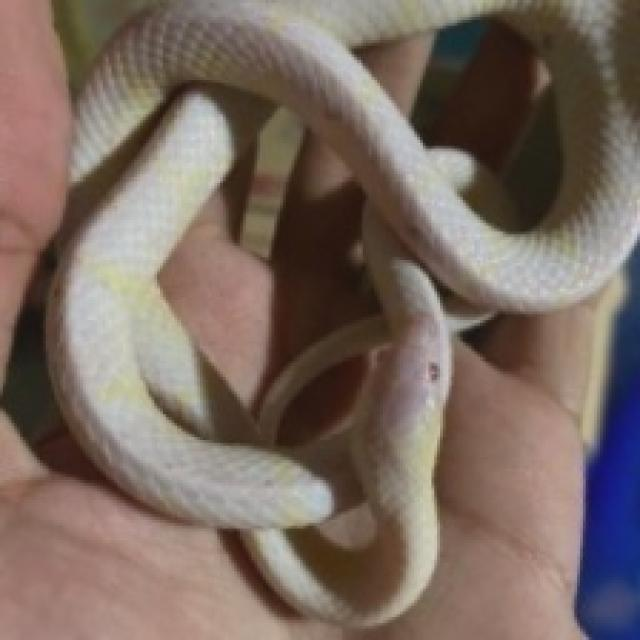gunthers philippine shrub snake: (46, 0, 637, 623)
